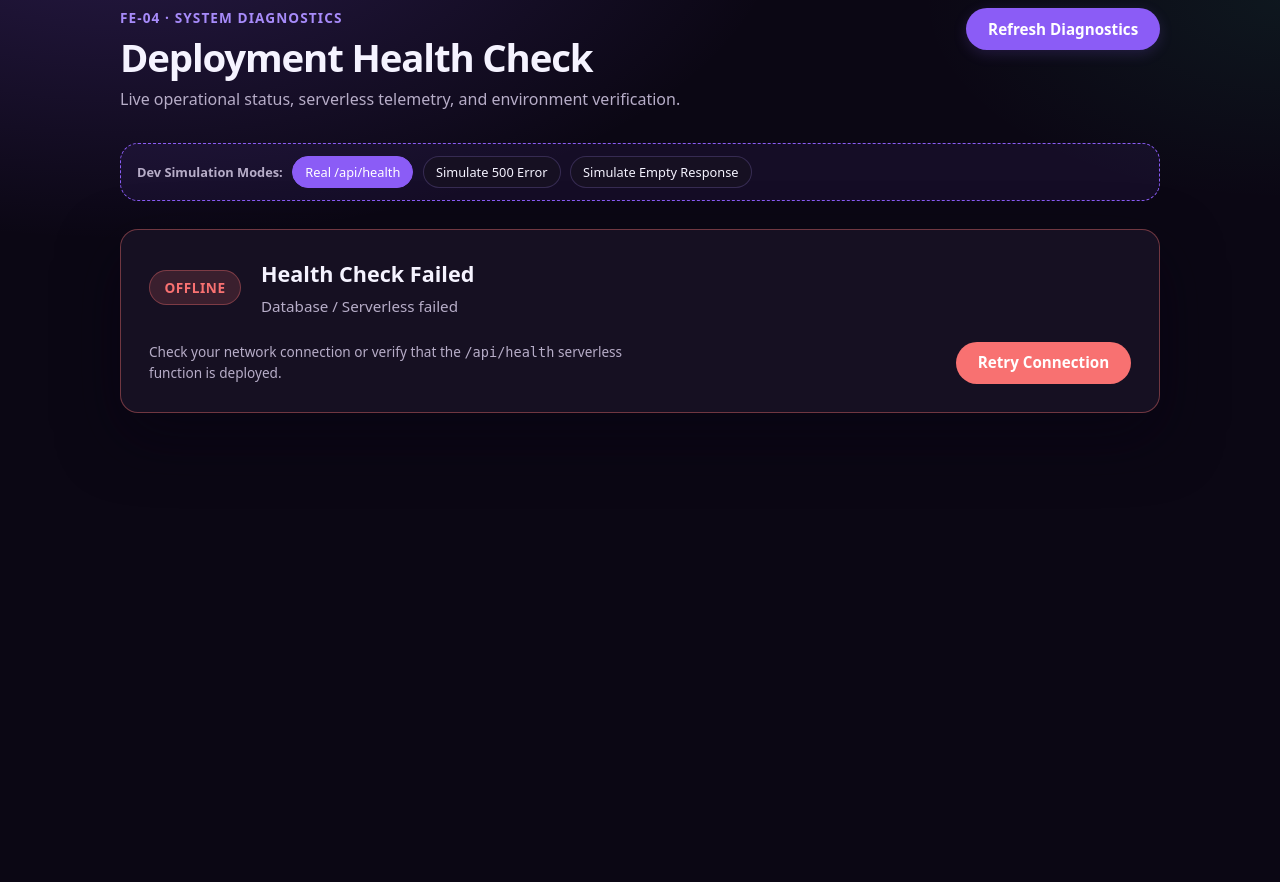
Scenario: HealthCheck UI component (FE-04) › renders accessible error alert and recovers when user clicks retry
Expected: the message is shown, 120,229 -> 1160,412
Expected: the heading "Health Check Failed" is shown, 261,258 -> 474,291
What coordinates should you click on to do the following:
click the button "Retry Connection"
I would click on:
 (1043, 362)
Its box is 956,342 -> 1131,384.
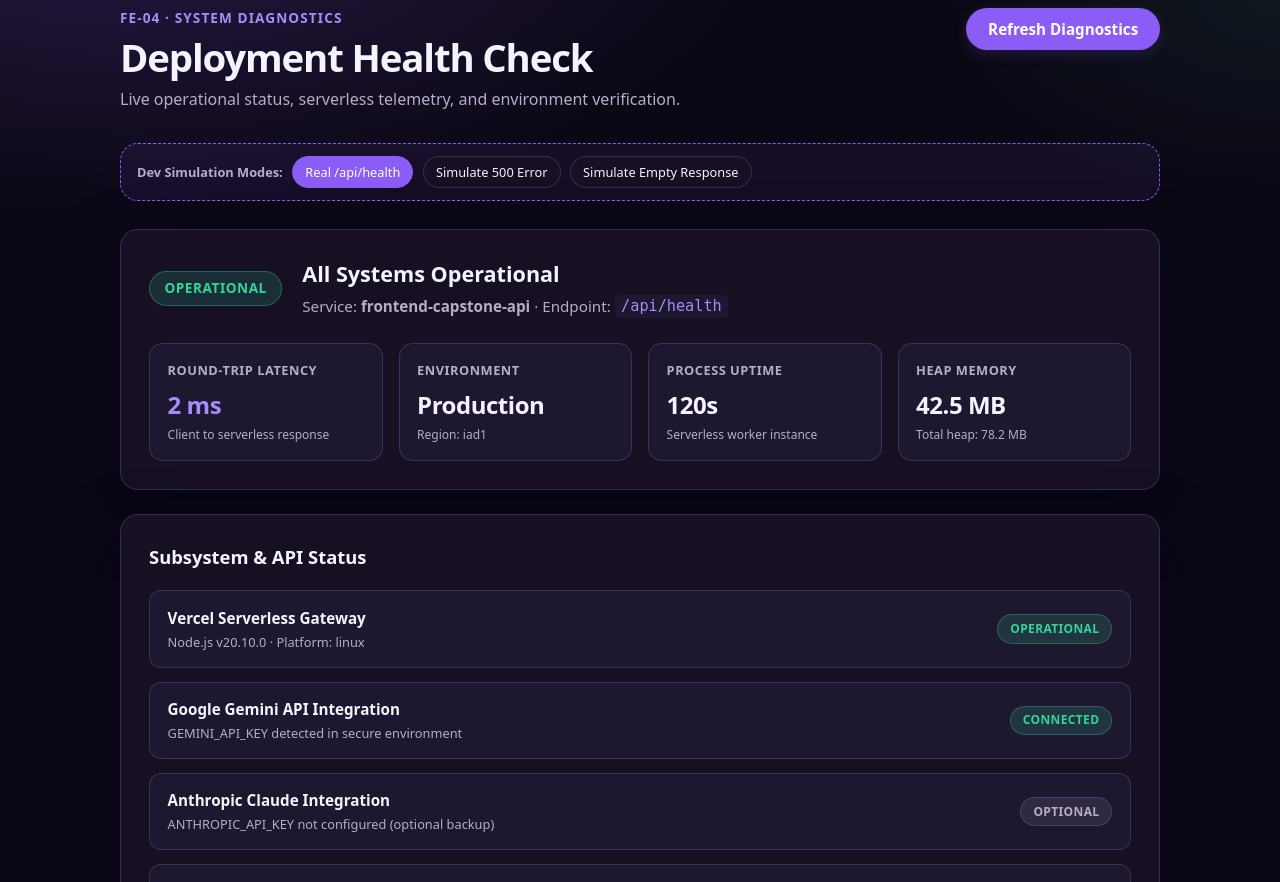
Expected: the heading "All Systems Operational" is shown, 302,259 -> 560,288
